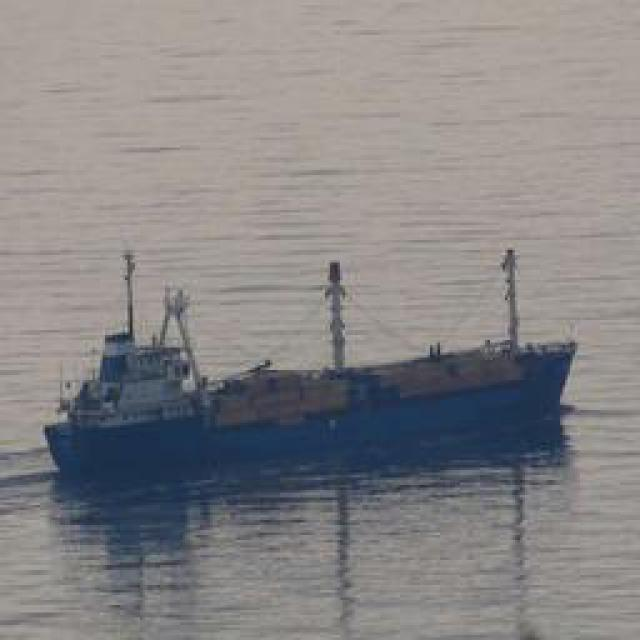Ship: (35, 247, 585, 480)
